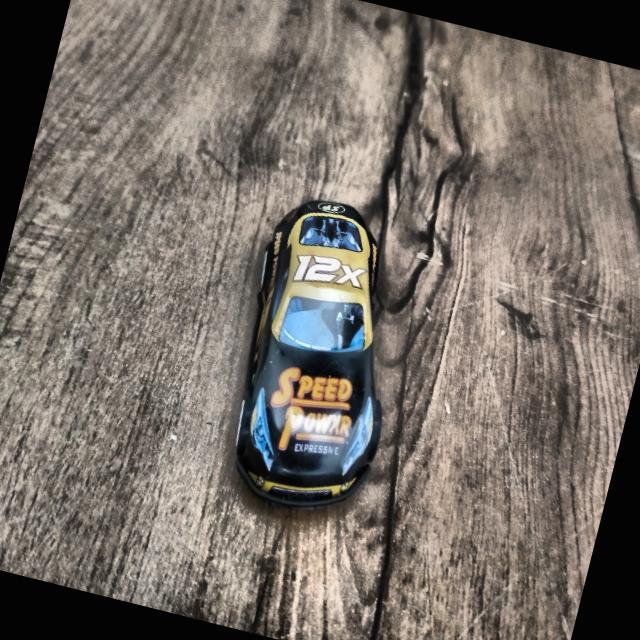Car: (204, 184, 440, 534)
